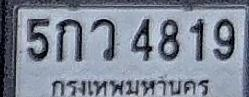1: (189, 18, 204, 61)
4: (132, 18, 152, 60)
5: (28, 18, 50, 61)
8: (158, 18, 180, 60)
9: (214, 18, 234, 60)
A01: (56, 18, 82, 62)
A37: (90, 18, 116, 60)
BKK: (46, 71, 212, 97)
